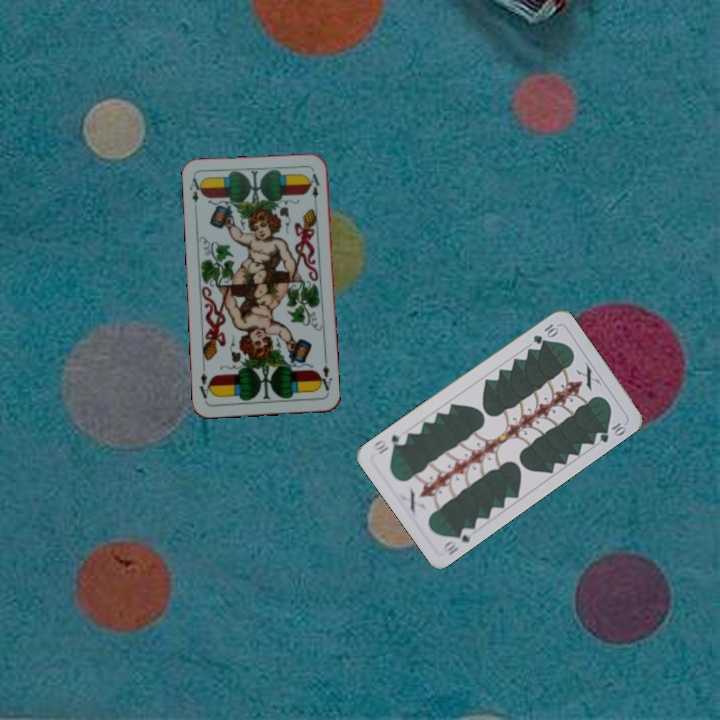EA: (315, 356, 335, 397), (185, 174, 205, 214)
G10: (440, 523, 477, 558), (529, 320, 561, 347)
